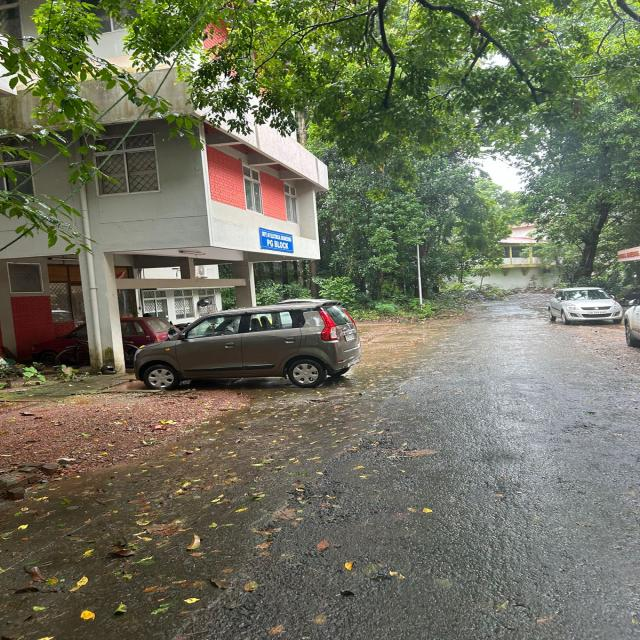car ahead at: (129, 292, 359, 410)
